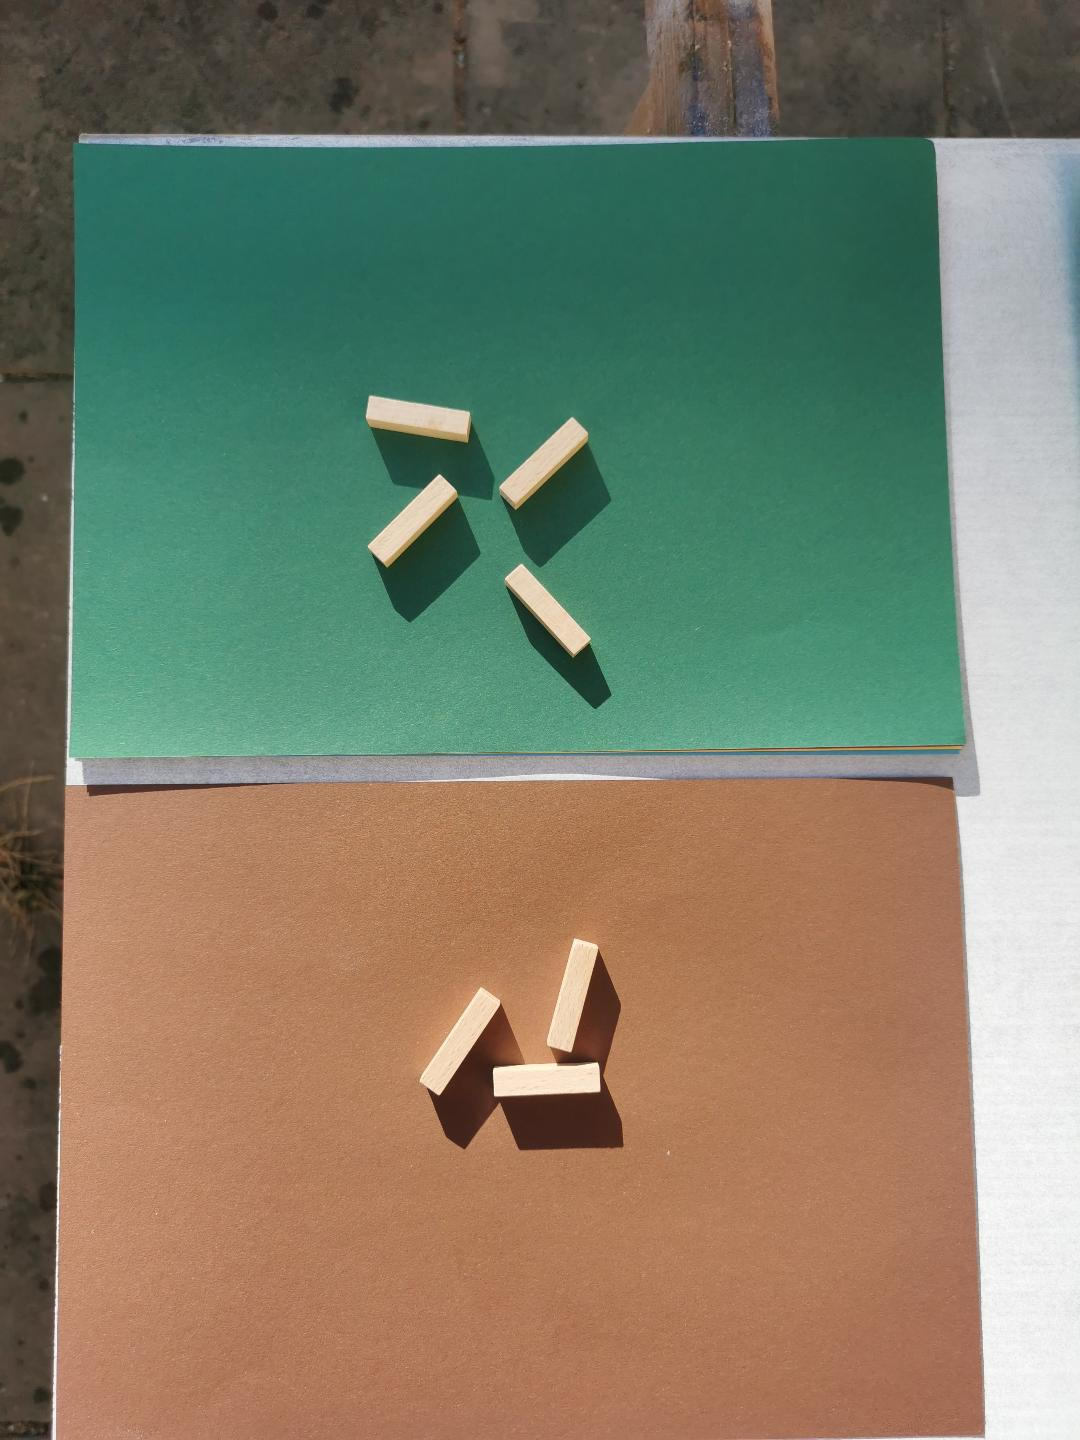jenga: (419, 988, 500, 1094), (369, 475, 458, 566), (500, 416, 588, 509), (504, 566, 591, 655), (548, 939, 599, 1052), (365, 397, 470, 441), (492, 1064, 602, 1096)
